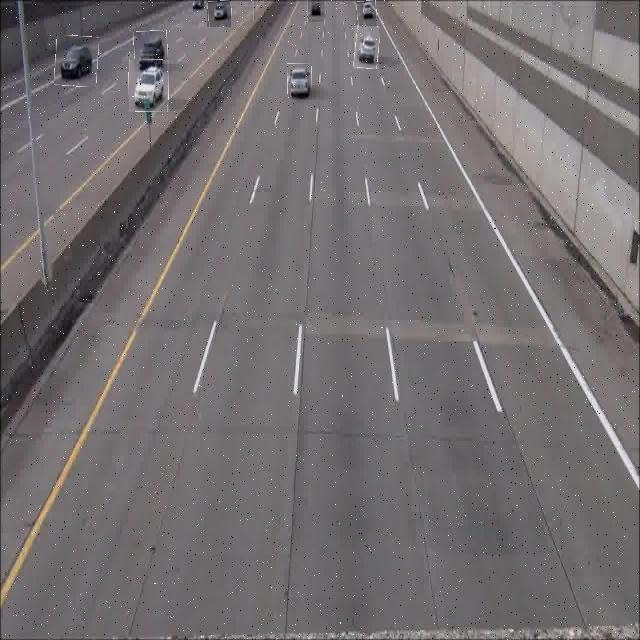Car: (55, 35, 98, 87), (129, 60, 169, 112), (134, 31, 167, 72), (354, 26, 379, 69), (288, 63, 312, 96), (207, 0, 231, 27), (356, 0, 376, 27), (307, 0, 324, 22)
